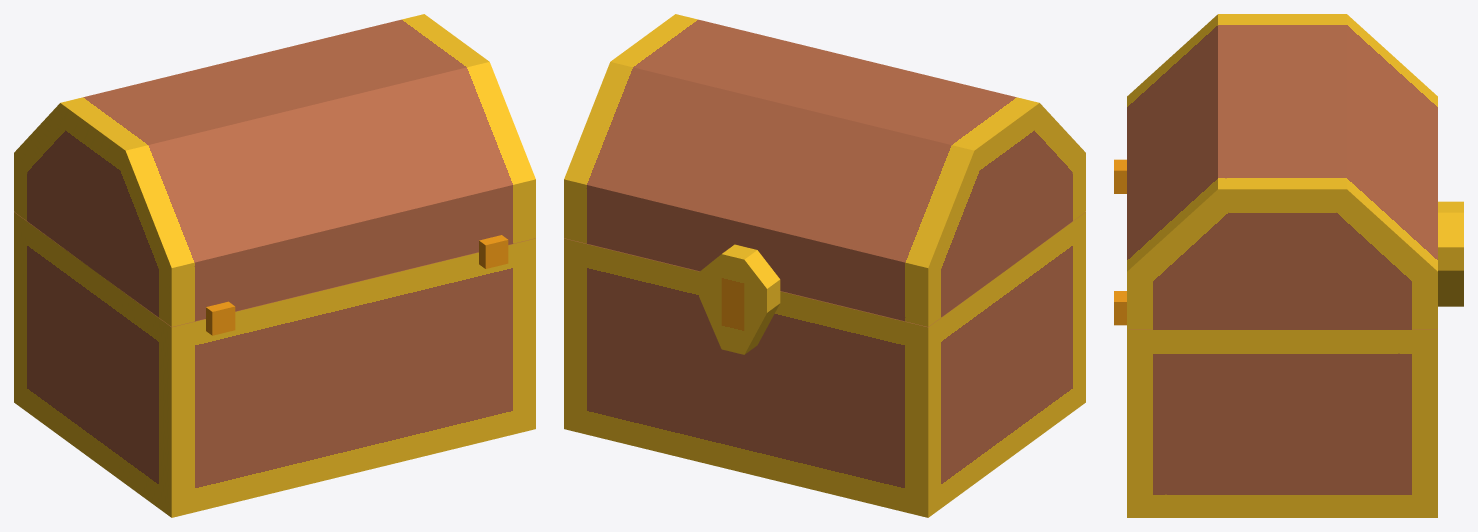
Rendered from chest.gltf.
The picture shows the model from 3 angles, left to right: view 1: azimuth 30°, elevation 25°; view 2: azimuth 150°, elevation 25°; view 3: azimuth 270°, elevation 25°; orthographic projection.
Visible parts, largest first — view 1: cylinder, cuboid (×3); view 2: cylinder, cuboid (×2); view 3: cylinder, cuboid (×4).
Boxes of the visible parts, bbox=[...] form: cylinder: bbox=[14, 14, 535, 326]; cuboid (×3): bbox=[14, 212, 535, 517]; cylinder: bbox=[564, 14, 1085, 326]; cuboid (×2): bbox=[564, 212, 1085, 517]; cylinder: bbox=[1127, 14, 1437, 329]; cuboid (×4): bbox=[1114, 159, 1463, 517].
Size of the model in its own units: 1 by 0.875 by 0.8438.
1 material, 1 textured.
